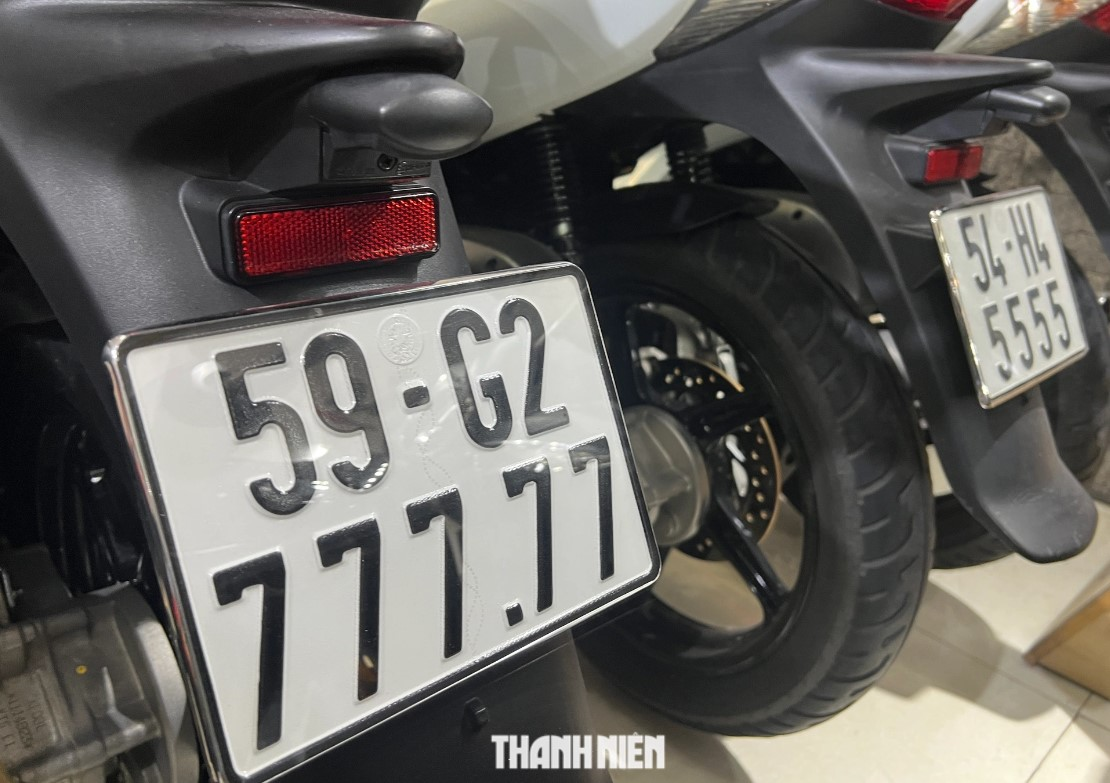bien_so: (83, 251, 674, 781), (921, 177, 1095, 422)
